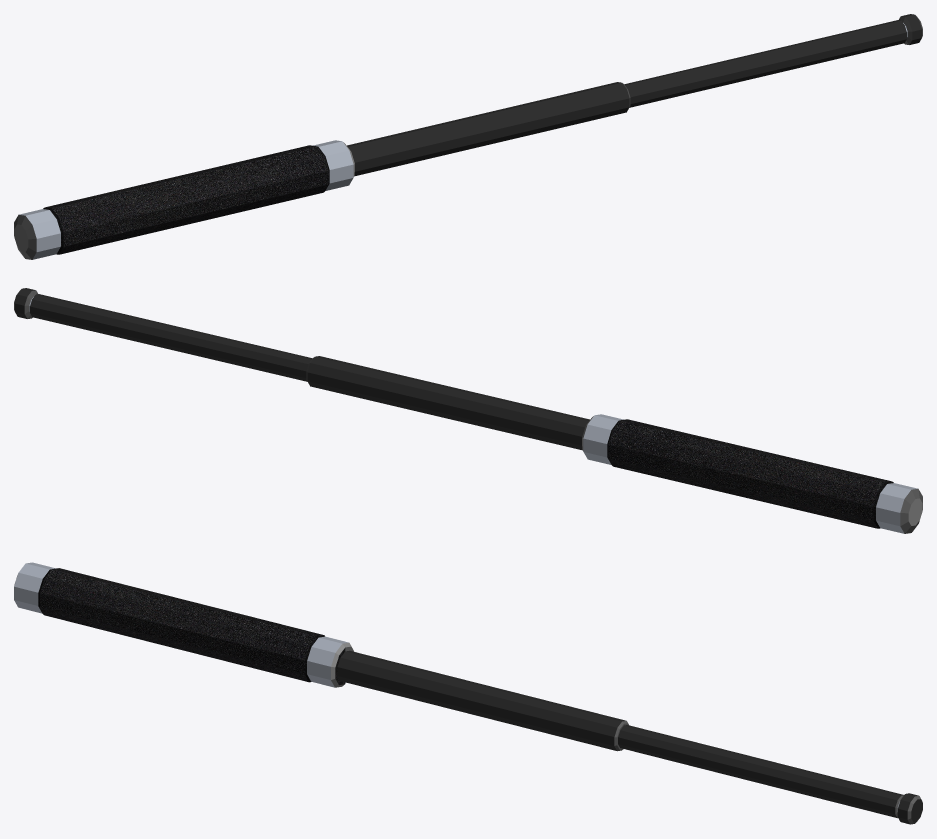
The model's file is WorldItem_TelescopicBaton.fbx.
3 renders of one model, top to bottom at view 1: azimuth 30°, elevation 25°; view 2: azimuth 150°, elevation 25°; view 3: azimuth 330°, elevation 25°, orthographic.
Visible parts, largest first — view 1: ZomboidTelescopicBaton; view 2: ZomboidTelescopicBaton; view 3: ZomboidTelescopicBaton.
Boxes of the visible parts, x1=… form: ZomboidTelescopicBaton: x1=14, y1=14, x2=922, y2=259; ZomboidTelescopicBaton: x1=14, y1=288, x2=922, y2=533; ZomboidTelescopicBaton: x1=14, y1=562, x2=922, y2=824.
Bounding box in the file's own units: 0.3373 × 0.0171 × 0.0155.
